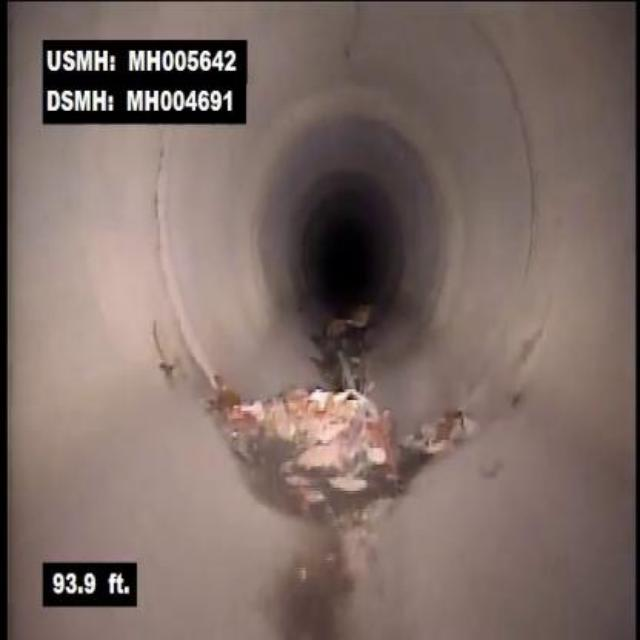Debris: (249, 365, 397, 503)
